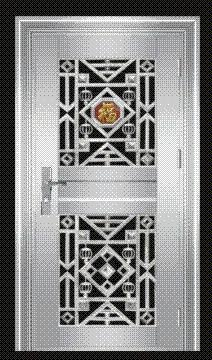door: (14, 14, 200, 351)
